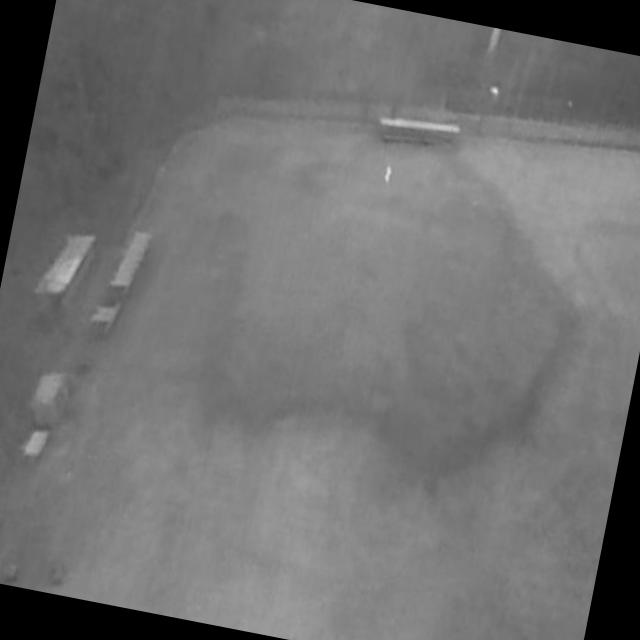person: (383, 165, 394, 185)
